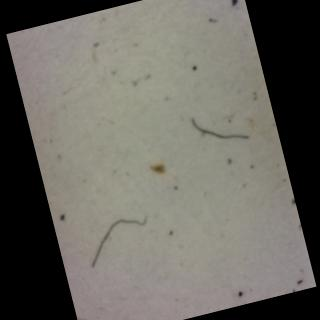Microplastic: (65, 192, 157, 274), (177, 99, 258, 163)
